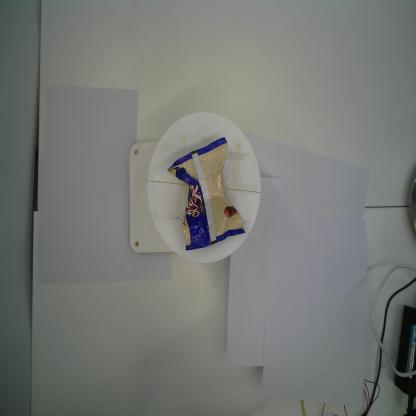Dessert: (162, 137, 246, 253)
